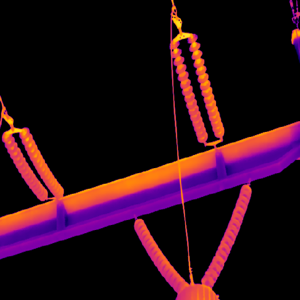insulator: (200, 181, 253, 287), (185, 31, 224, 138), (168, 38, 207, 143), (133, 218, 188, 291), (19, 125, 64, 198), (1, 131, 47, 202)
